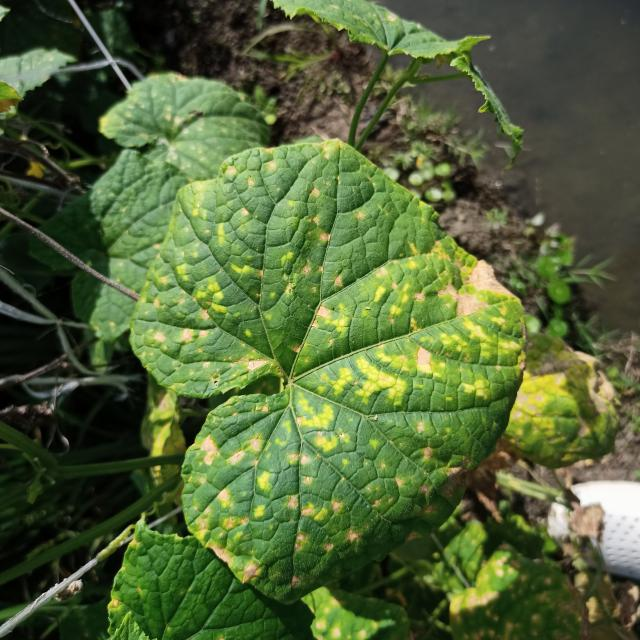disease_cucumber: (151, 175, 517, 589)
